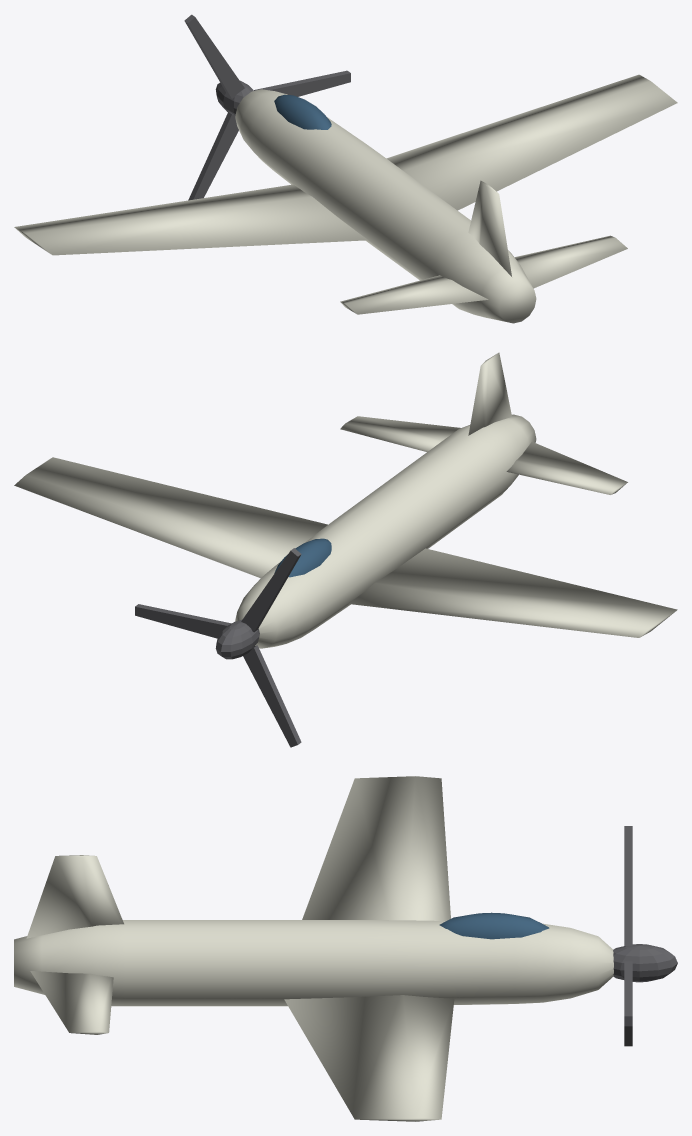
File: zero.fbx
3 views of the same model, one above another, from view 1: azimuth 30°, elevation 25°; view 2: azimuth 150°, elevation 25°; view 3: azimuth 270°, elevation 25° (orthographic). The views are drawn at different scales.
Parts seen in each view (by area): view 1: Body, Detail, Canopy; view 2: Body, Detail, Canopy; view 3: Body, Detail, Canopy.
Boxes of the visible parts, x1,y1,x2,y2 form: Body: [14, 74, 677, 323]; Detail: [184, 14, 350, 200]; Canopy: [274, 94, 331, 129]; Body: [14, 352, 677, 648]; Detail: [135, 548, 301, 747]; Canopy: [274, 538, 331, 577]; Body: [14, 776, 613, 1121]; Detail: [613, 826, 677, 1046]; Canopy: [439, 912, 549, 939].
Size of the model in its own units: 1200 by 361 by 987.
